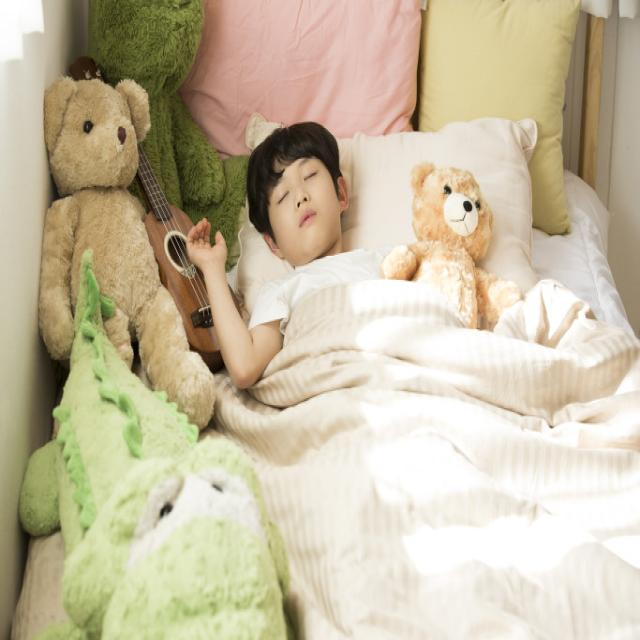sleeping-person: (180, 103, 608, 640)
